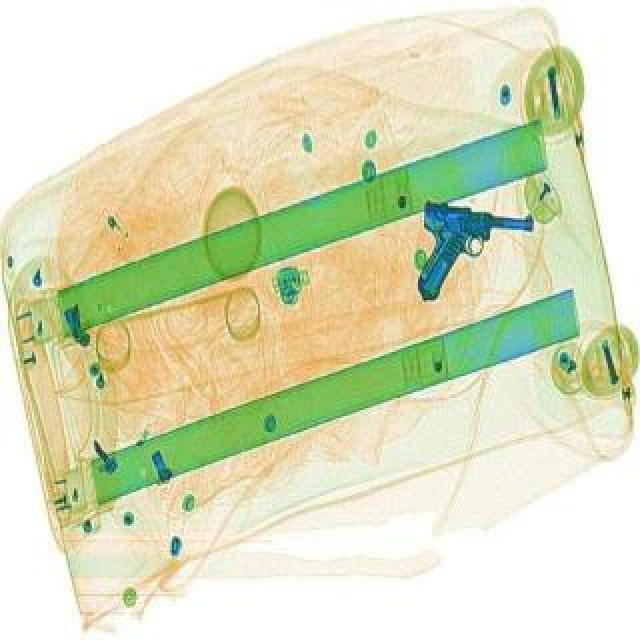gun: (410, 198, 534, 310)
